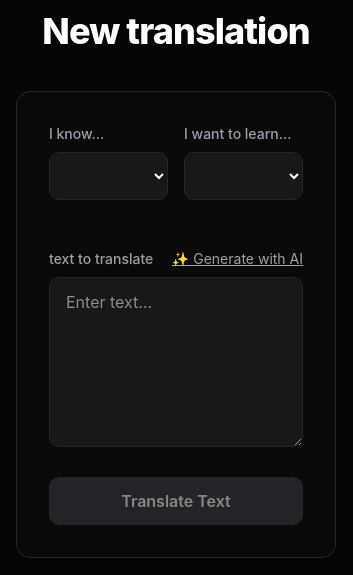
Scenario: Submit › enables submit button when text is entered
Step 1. Type "Hello world" into the text box with placeholder "Enter text..." → (176, 362), box [49, 277, 303, 447]
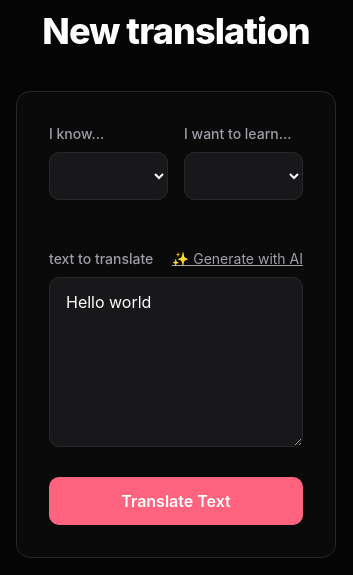
Check: the button "Translate Text" is enabled, box [49, 477, 303, 525]
